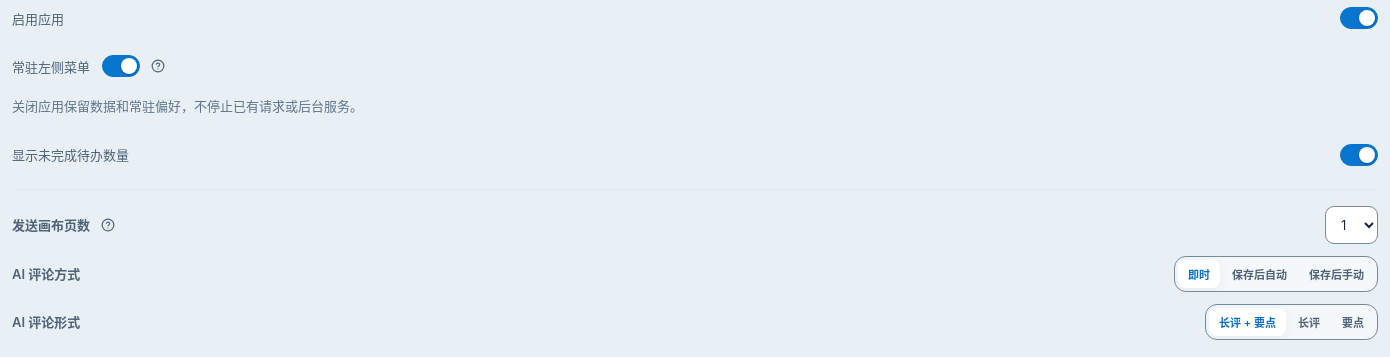
Test: Application Center › keeps disable consequences visible and pin help separate in zh-CN
Expected: the text "常驻只控制左侧捷径。" is not shown
Expected: the text "关闭应用保留数据和常驻偏好，不停止已有请求或后台服务。" is shown, [12,98,363,114]
Click the button named "常驻左侧菜单": (158, 66) [144,52,172,80]
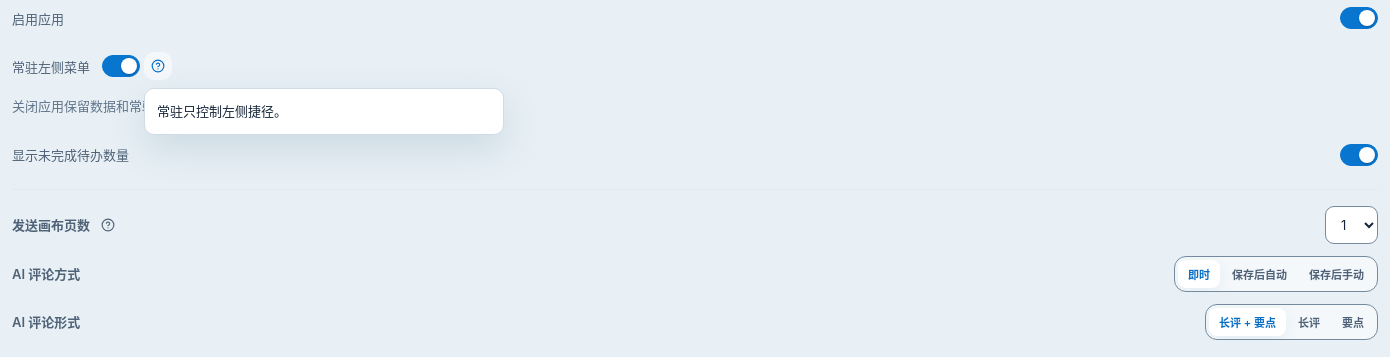
Expected: the switch labelled "常驻左侧菜单" is checked, [102,55,140,77]
Result: the tooltip reads "常驻只控制左侧捷径。" at [157,103,287,119]
